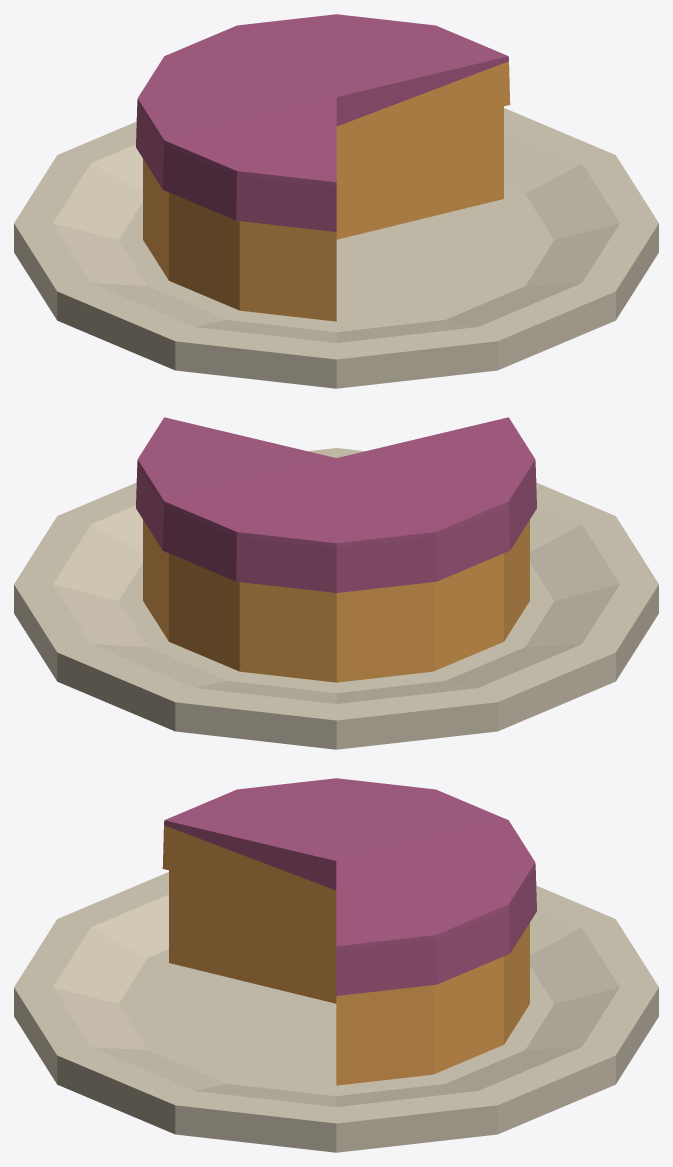
File: Target_01_Cake.fbx
The picture shows the model from 3 angles, top to bottom: view 1: azimuth 30°, elevation 25°; view 2: azimuth 150°, elevation 25°; view 3: azimuth 270°, elevation 25°; orthographic projection.
Visible parts, largest first — view 1: Cake; view 2: Cake; view 3: Cake.
Boxes of the visible parts, left/top/right/bottom form: Cake: left=14, top=14, right=658, bottom=388; Cake: left=14, top=417, right=658, bottom=749; Cake: left=14, top=778, right=658, bottom=1152.
Bounding box in the file's own units: 1 × 0.2657 × 1.
